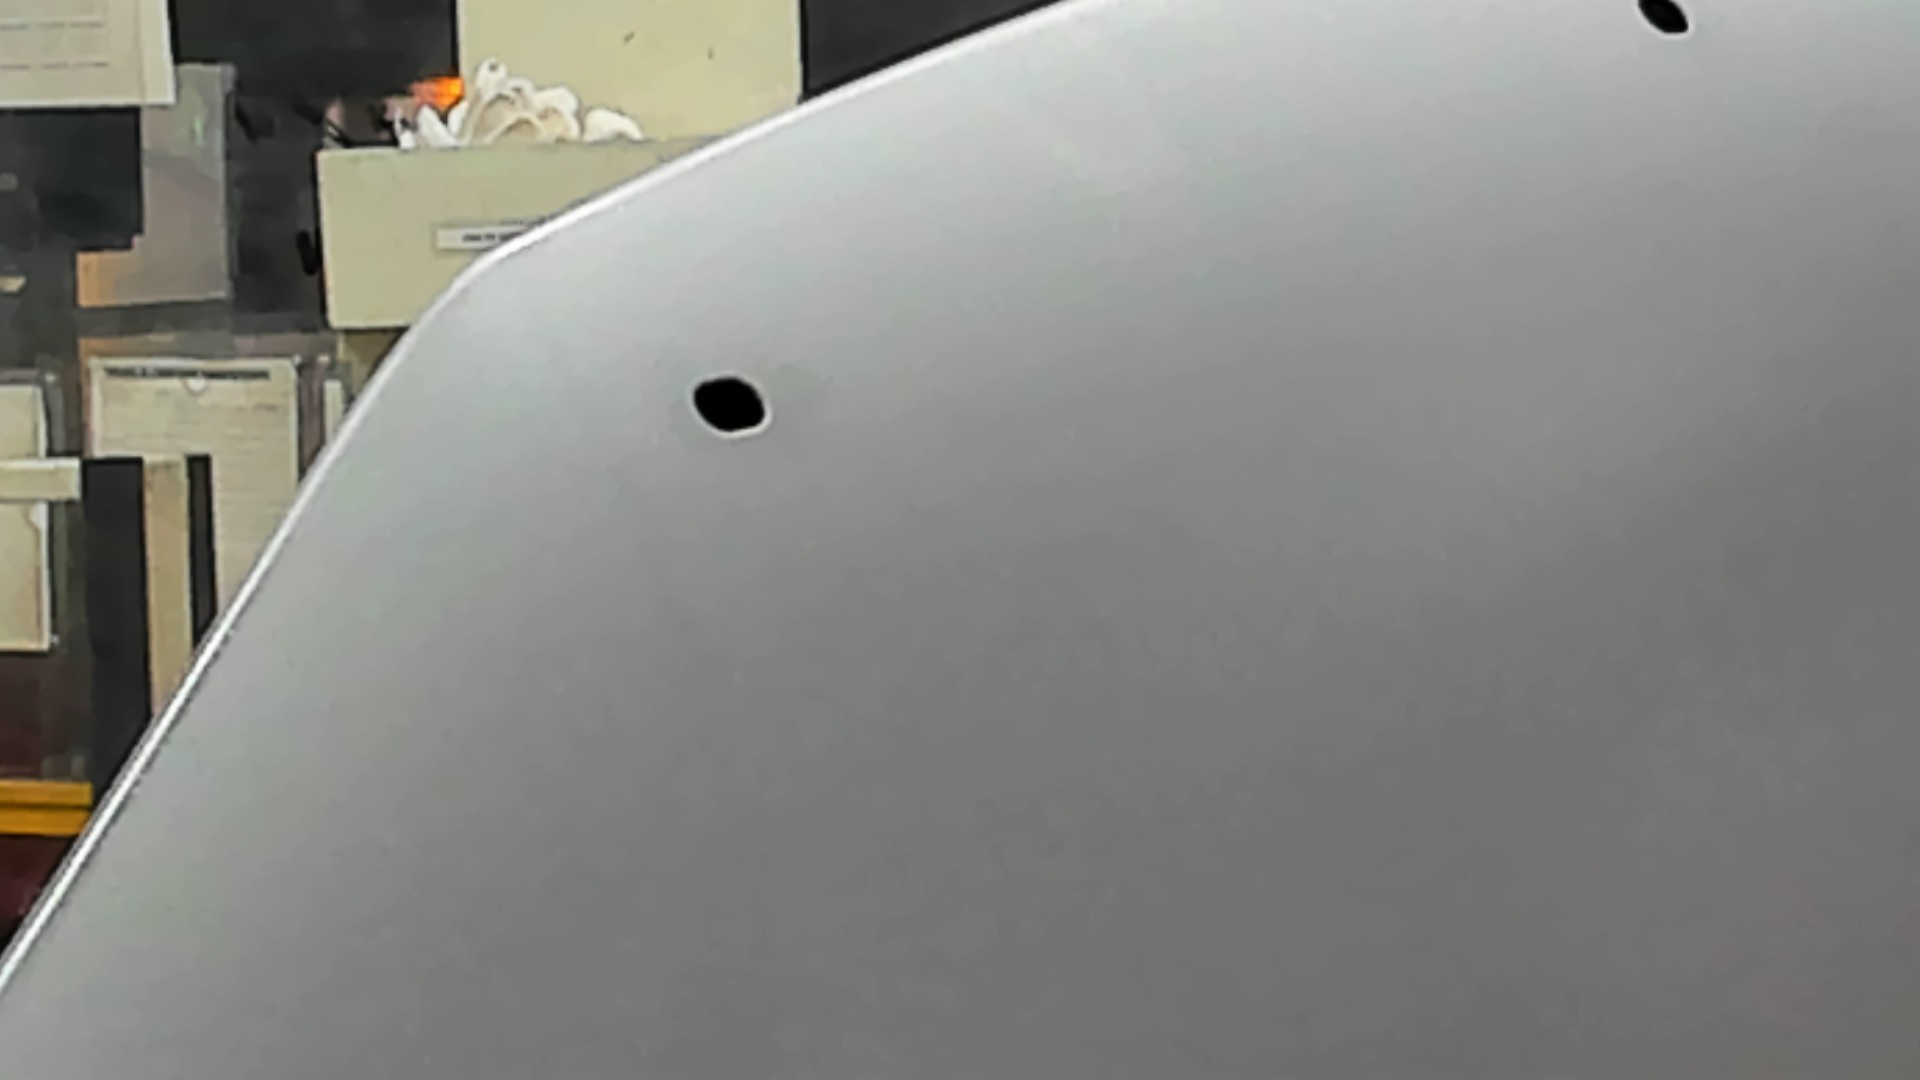Agujero: (688, 376, 769, 436), (1636, 1, 1691, 37)
